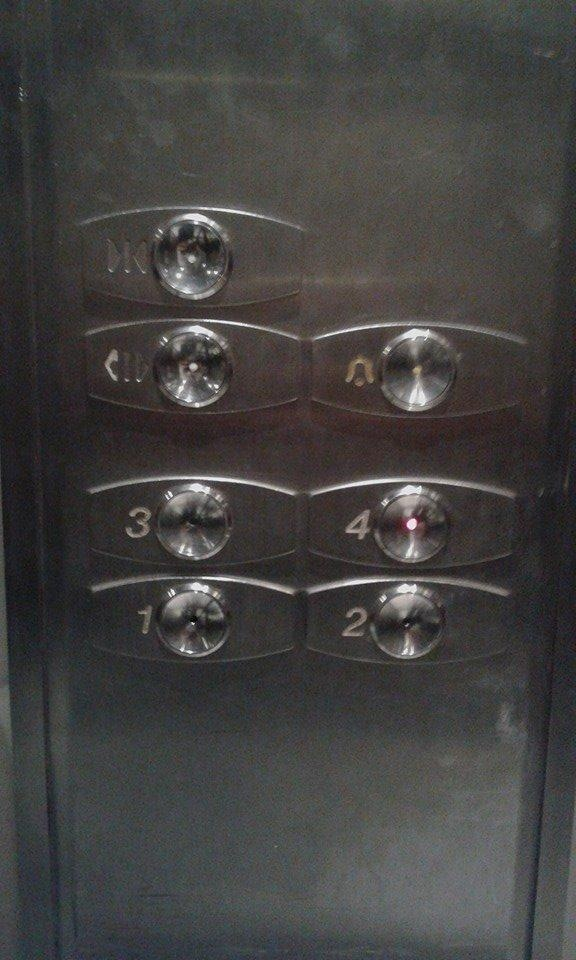1: (84, 570, 300, 667)
2: (302, 573, 518, 670)
3: (84, 470, 300, 567)
4: (304, 474, 515, 568)
alarm: (308, 315, 538, 420)
close: (71, 200, 315, 314)
open: (73, 314, 306, 420)
